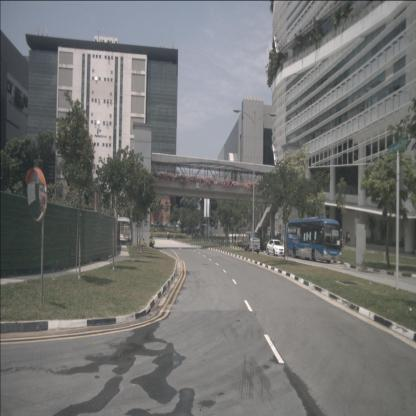human-pedestrian-adult: (344, 230, 348, 247), (347, 231, 351, 247), (234, 235, 236, 244)
vehicle-bus-rigid: (286, 218, 342, 264)
vehicle-car: (266, 239, 285, 257)
vehicle-truck: (242, 231, 260, 254)
